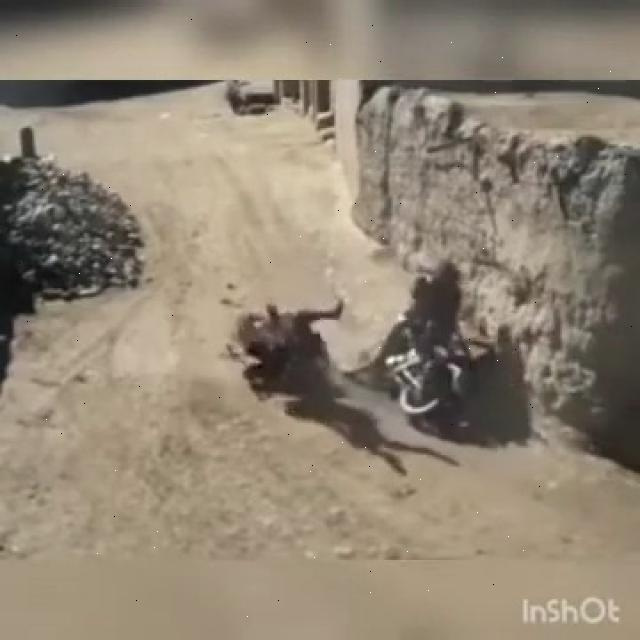accident: (368, 266, 498, 423), (231, 277, 341, 412)
